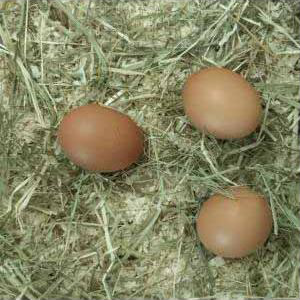egg: (57, 105, 143, 173), (196, 187, 274, 260), (183, 68, 262, 139)
